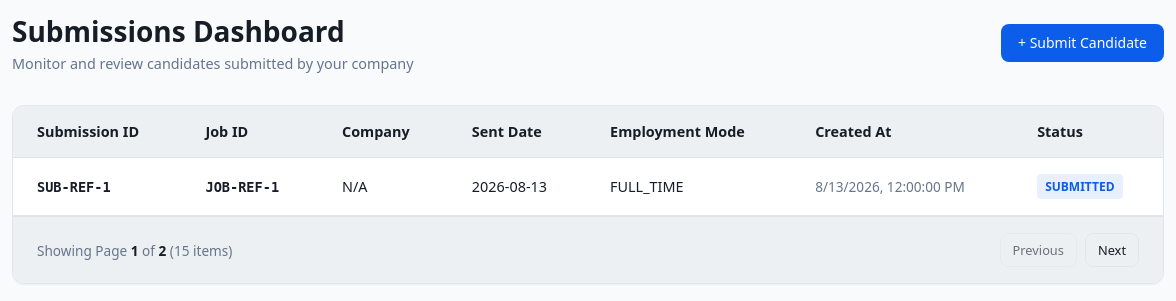
Test case: VMS Frontend Tests › Vendor dashboard server-side pagination flow
This screenshot has width=1176, height=301.
Check: the text "SUB-REF-1" is shown, box [13, 158, 182, 216]
Check: the text "JOB-REF-1" is shown, box [182, 158, 318, 216]
Note: Go to next page
Click the button "Next": (1112, 250) [1085, 233, 1139, 267]
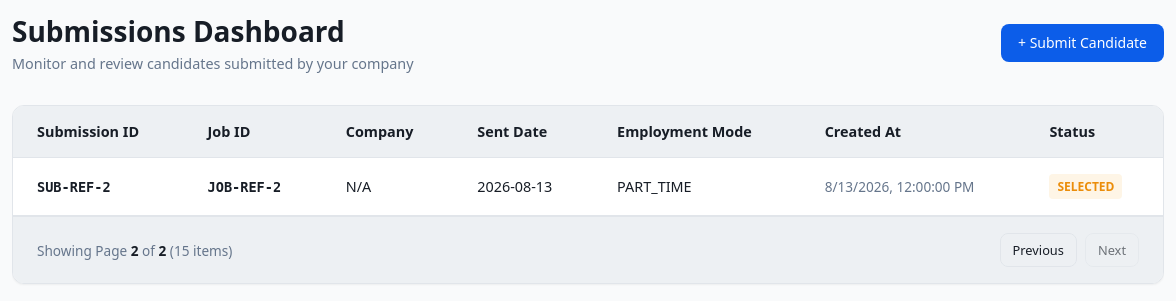
Check: the text "SUB-REF-2" is shown, box [13, 158, 184, 216]
Check: the text "JOB-REF-2" is shown, box [184, 158, 322, 216]
